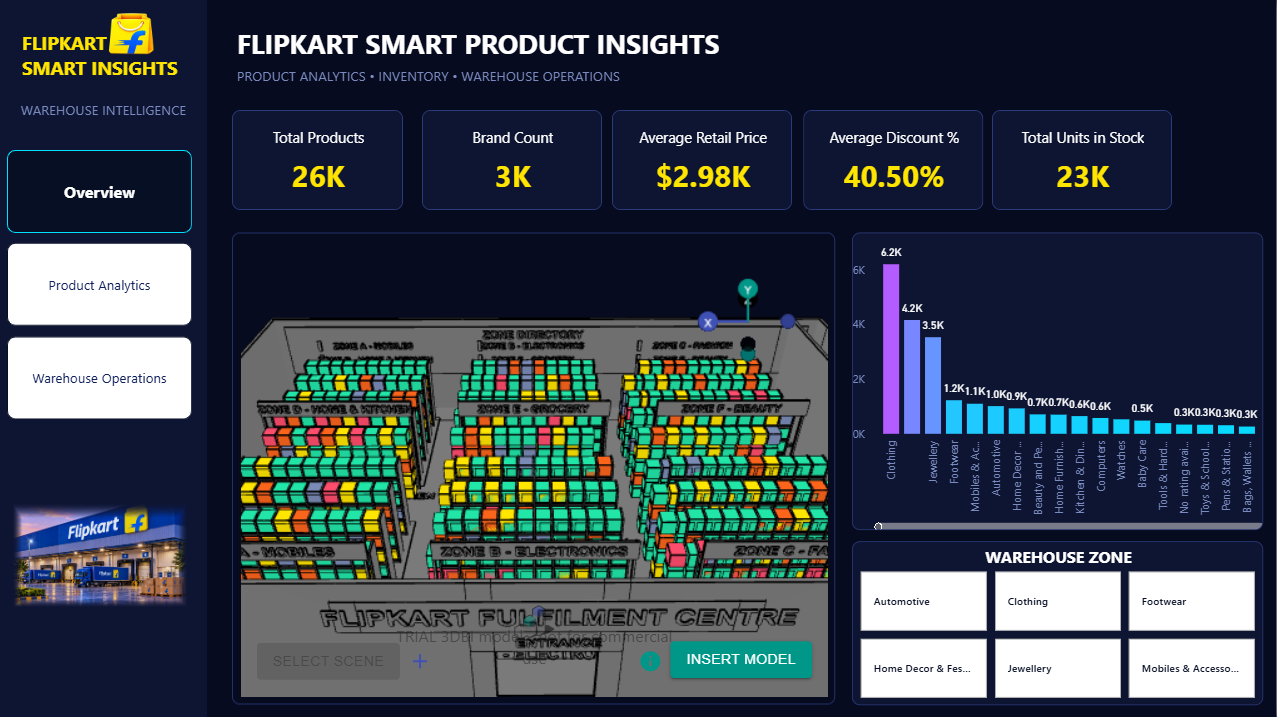

The dashboard page shown, as its layout file describes it:
{"tool":"powerbi","page":{"name":"Overview","canvas":[1280,720],"ordinal":0},"visuals":[{"type":"shape","box":[0,0,210,720],"z":0},{"type":"textbox","box":[20.5,25,175,65.1],"z":1000},{"type":"textbox","box":[19.3,95.3,176.1,36.2],"z":2000},{"type":"textbox","box":[235.3,20.5,700,45.8],"z":3000},{"type":"textbox","box":[235.3,61.5,699.7,29],"z":4000},{"type":"cardVisual","fields":{"Data":["Flipkart_Products.Total Products"]},"box":[235,110,171,100],"z":5000},{"type":"cardVisual","fields":{"Data":["Flipkart_Products.Brand Count"]},"box":[425,110,180,100],"z":6000},{"type":"cardVisual","fields":{"Data":["Flipkart_Products.Average Retail Price"]},"box":[615,110,180,100],"z":7000},{"type":"cardVisual","fields":{"Data":["Flipkart_Products.Average Discount %"]},"box":[805.9,110,180,100],"z":8000},{"type":"cardVisual","fields":{"Data":["Flipkart_Warehouse.Total Units in Stock"]},"box":[995,110,180,100],"z":9000},{"type":"image","box":[107,10,53,47],"z":10000},{"type":"KGdev3DBI69f2181a7e5a44a9a709014959414bf0","fields":{"ids":["Flipkart_Warehouse.Bin_ID"],"color_by":["Flipkart_Warehouse.Bin_Status"]},"box":[235.3,232.8,603.2,471.7],"z":11000},{"type":"clusteredColumnChart","fields":{"Category":["Flipkart_Products.Text Before Delimiter"],"Y":["Flipkart_Products.Total Products"]},"box":[855,232.5,411.2,297.5],"z":12000},{"type":"image","box":[10,420,186.2,270],"z":13000},{"type":"pageNavigator","box":[10,150,185,270],"z":14000},{"type":"advancedSlicerVisual","title":"WAREHOUSE ZONE","fields":{"Values":["Flipkart_Warehouse.Zone_Name"]},"box":[855,541.2,411.2,163.8],"z":15000}]}

Visuals, with their boxes on the page's 1280x720 design canvas (x1, y1, x2, y2). These are canvas units, not pixel positions in the 1277x717 screenshot, which may show the page scaled, cropped or inside an application window:
shape: 0, 0, 210, 720
textbox: 20, 25, 196, 90
textbox: 19, 95, 195, 132
textbox: 235, 20, 935, 66
textbox: 235, 62, 935, 90
cardVisual - Flipkart_Products.Total Products: 235, 110, 406, 210
cardVisual - Flipkart_Products.Brand Count: 425, 110, 605, 210
cardVisual - Flipkart_Products.Average Retail Price: 615, 110, 795, 210
cardVisual - Flipkart_Products.Average Discount %: 806, 110, 986, 210
cardVisual - Flipkart_Warehouse.Total Units in Stock: 995, 110, 1175, 210
image: 107, 10, 160, 57
KGdev3DBI69f2181a7e5a44a9a709014959414bf0 - Flipkart_Warehouse.Bin_ID x Flipkart_Warehouse.Bin_Status: 235, 233, 838, 704
clusteredColumnChart - Flipkart_Products.Text Before Delimiter x Flipkart_Products.Total Products: 855, 232, 1266, 530
image: 10, 420, 196, 690
pageNavigator: 10, 150, 195, 420
"WAREHOUSE ZONE" advancedSlicerVisual: 855, 541, 1266, 705
